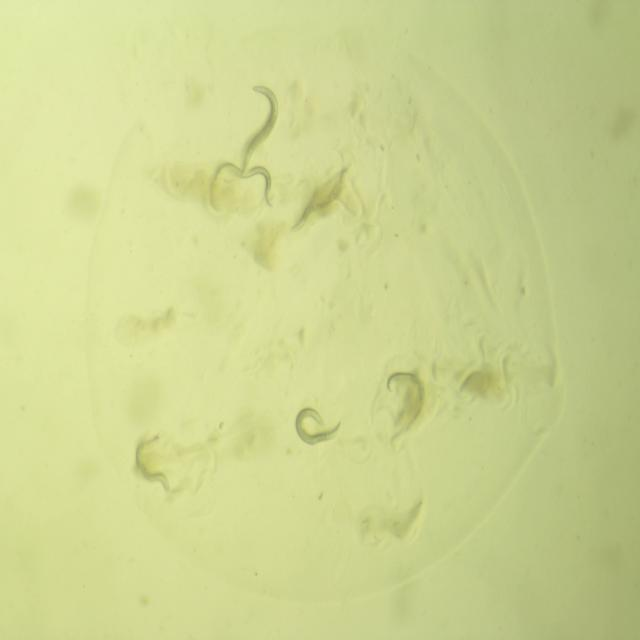worm: (229, 68, 288, 186), (284, 153, 356, 244), (372, 352, 433, 454), (120, 416, 180, 501), (205, 151, 277, 220), (284, 398, 358, 461)
